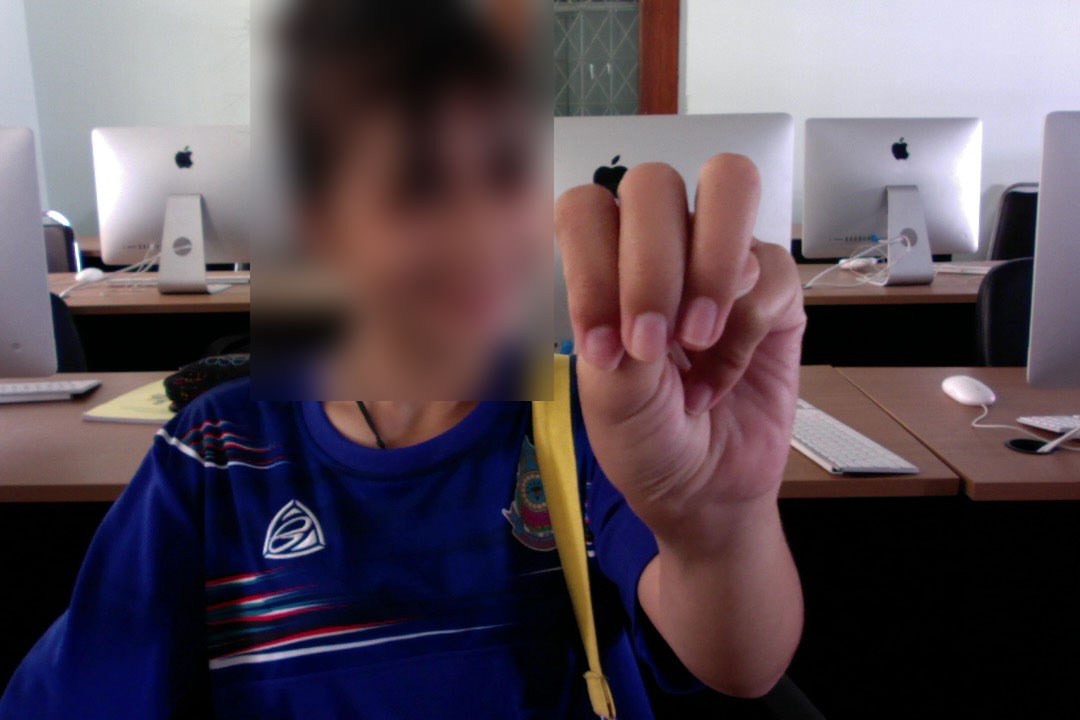mor: (545, 155, 815, 538)
